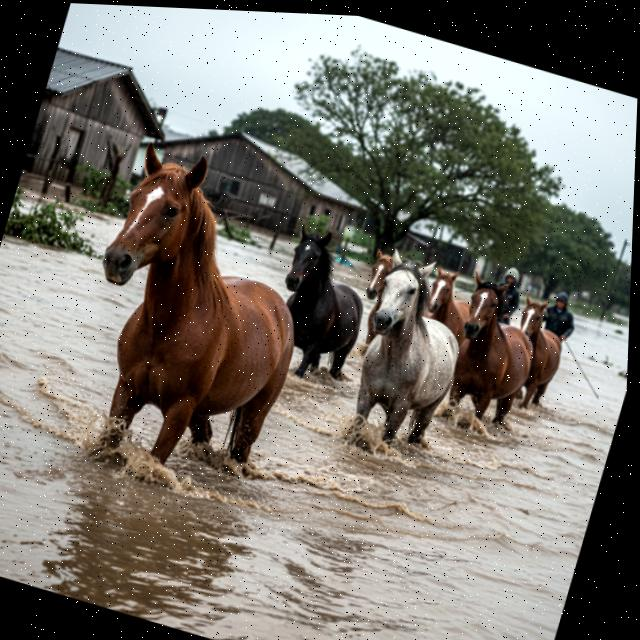civilian: (485, 261, 531, 328), (539, 285, 585, 345)
horse: (36, 127, 340, 510), (333, 240, 487, 464), (255, 213, 394, 391), (430, 268, 557, 437), (488, 289, 588, 426), (340, 237, 408, 365), (412, 261, 488, 351)
